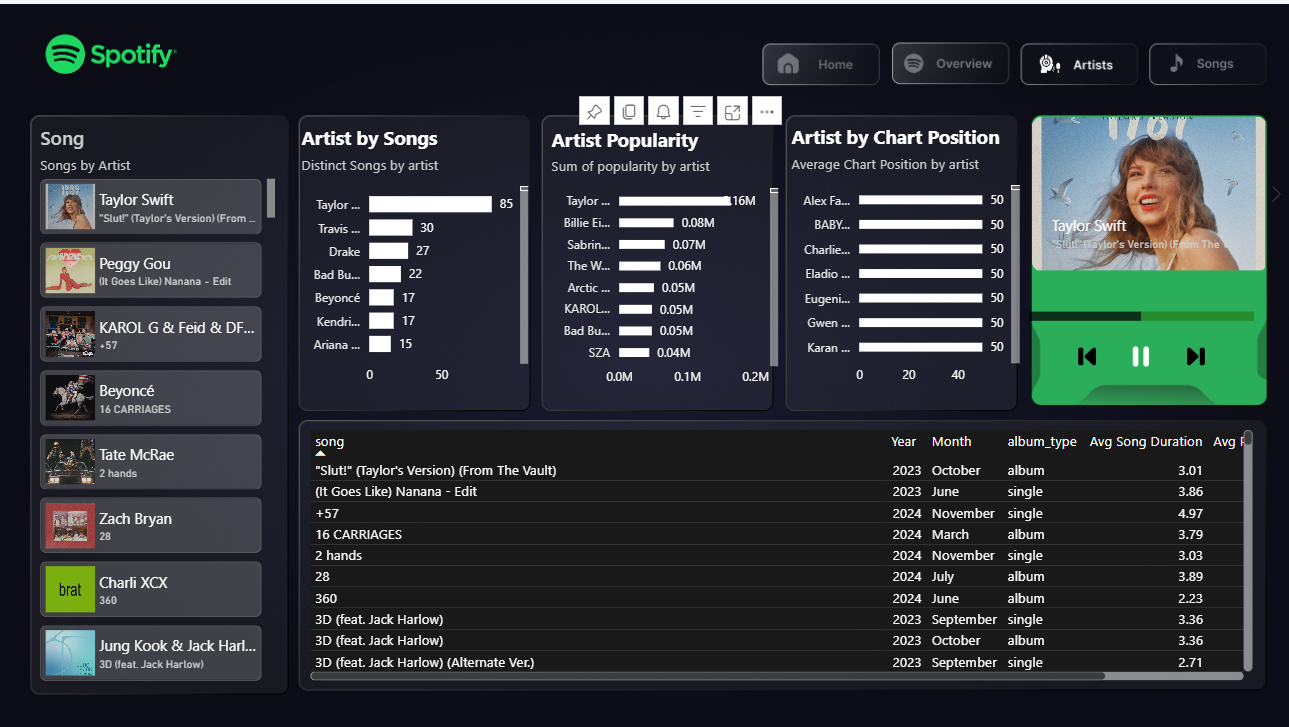

Layout of this report page (visuals, bound fields, positions):
{"tool":"powerbi","page":{"name":"Artists","canvas":[1280,720],"ordinal":2},"visuals":[{"type":"actionButton","box":[758.8,42.2,120,40],"z":0},{"type":"actionButton","box":[878.7,42.4,120,40],"z":1000},{"type":"actionButton","box":[1014.4,42.4,120,40],"z":2000},{"type":"actionButton","box":[1140.1,42.4,120,40],"z":3000},{"type":"advancedSlicerVisual","fields":{"Values":["Top-50-world.song"]},"box":[994,105,283,164],"z":4000},{"type":"barChart","fields":{"Y":["Top-50-world.Avg Popularity","Avg(Top-50-world.popularity)"]},"box":[1012.9,261.9,258,88],"z":5000},{"type":"image","box":[1161.9,332.9,40,30],"z":6000},{"type":"image","box":[1053.9,332.9,40,30],"z":7000},{"type":"image","box":[1107.9,332.9,40,30],"z":8000},{"type":"shape","box":[1017,105,235.3,295.6],"z":9000},{"type":"clusteredBarChart","title":"Artist by Songs ","fields":{"Category":["Top-50-world.artist"],"Y":["Top-50-world.Distinct Songs"]},"box":[294.4,119.4,234,264.2],"z":10000},{"type":"clusteredBarChart","title":"Artist Popularity","fields":{"Y":["Sum(Top-50-world.popularity)"],"Category":["Top-50-world.artist"]},"box":[540.5,120.6,234,265.4],"z":11000},{"type":"advancedSlicerVisual","title":"Song","fields":{"Values":["Top-50-world.song"]},"box":[36.3,119.5,242.1,554.2],"z":12000},{"type":"tableEx","fields":{"Values":["Top-50-world.song","Top-50-world.release_date.Variation.Date Hierarchy.Year","Top-50-world.release_date.Variation.Date Hierarchy.Month","Top-50-world.album_type","Top-50-world.Avg Song Duration","Top-50-world.Avg Popularity","Top-50-world.Max Popularity"]},"box":[301.8,416.4,941.8,257.3],"z":13000},{"type":"clusteredBarChart","title":" Artist by Chart Position","fields":{"Y":["Top-50-world.Average Chart Position"],"Category":["Top-50-world.artist"]},"box":[777.5,118.8,235,265],"z":13001}]}

Visuals, with their boxes in screenshot pixels (x1, y1, x2, y2), scaled from the page's 1280x720 canvas onto the 1289x727 screenshot:
actionButton: crop(764, 43, 885, 83)
actionButton: crop(885, 43, 1006, 83)
actionButton: crop(1022, 43, 1142, 83)
actionButton: crop(1148, 43, 1269, 83)
advancedSlicerVisual - Top-50-world.song: crop(1001, 106, 1286, 272)
barChart - Top-50-world.Avg Popularity x Avg(Top-50-world.popularity): crop(1020, 264, 1280, 353)
image: crop(1170, 336, 1210, 366)
image: crop(1061, 336, 1102, 366)
image: crop(1116, 336, 1156, 366)
shape: crop(1024, 106, 1261, 404)
"Artist by Songs " clusteredBarChart: crop(296, 121, 532, 387)
"Artist Popularity" clusteredBarChart: crop(544, 122, 780, 390)
"Song" advancedSlicerVisual: crop(37, 121, 280, 680)
tableEx - Top-50-world.song x Top-50-world.release_date.Variation.Date Hierarchy.Year: crop(304, 420, 1252, 680)
" Artist by Chart Position" clusteredBarChart: crop(783, 120, 1020, 388)
